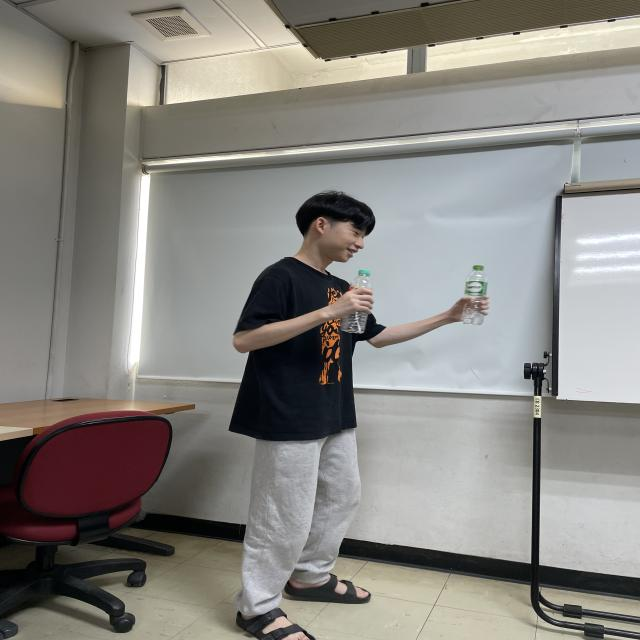bottle: (340, 269, 374, 335), (460, 264, 488, 326)
